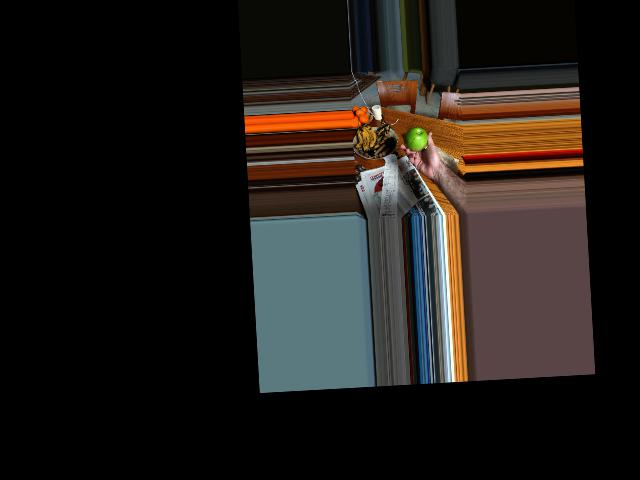apple: (403, 125, 427, 153)
